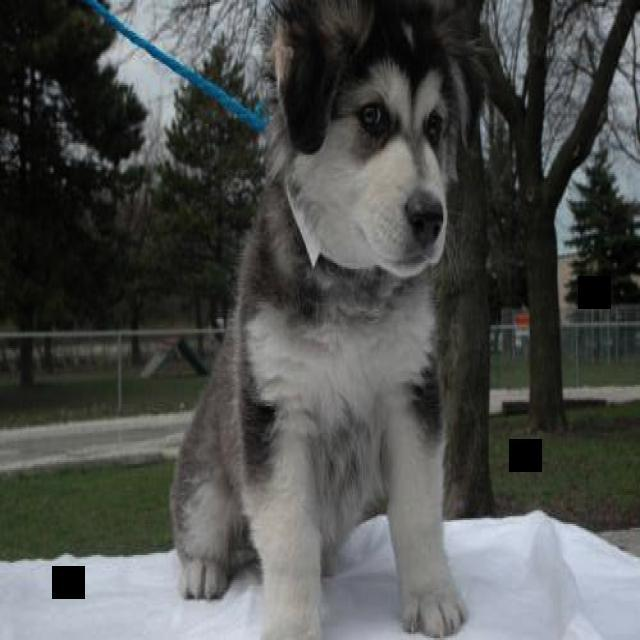puppy-dog: (169, 1, 482, 639)
